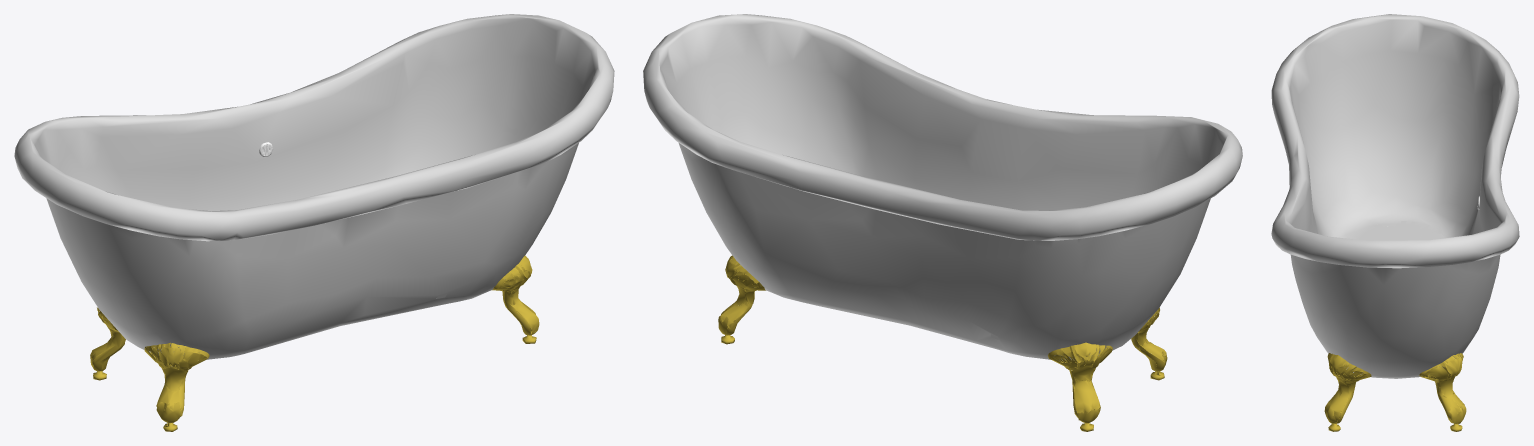
The model's file is bano_classic_bathtub.glb.
The picture shows the model from 3 angles, left to right: view 1: azimuth 30°, elevation 25°; view 2: azimuth 150°, elevation 25°; view 3: azimuth 270°, elevation 25°; orthographic projection. The views are drawn at different scales.
Visible parts, largest first — view 1: Object_11; view 2: Object_11; view 3: Object_11.
Boxes of the visible parts, bbox=[...] form: Object_11: bbox=[14, 14, 614, 431]; Object_11: bbox=[643, 14, 1242, 431]; Object_11: bbox=[1271, 14, 1519, 431].
Size of the model in its own units: 1.57 by 0.6994 by 0.6987.
